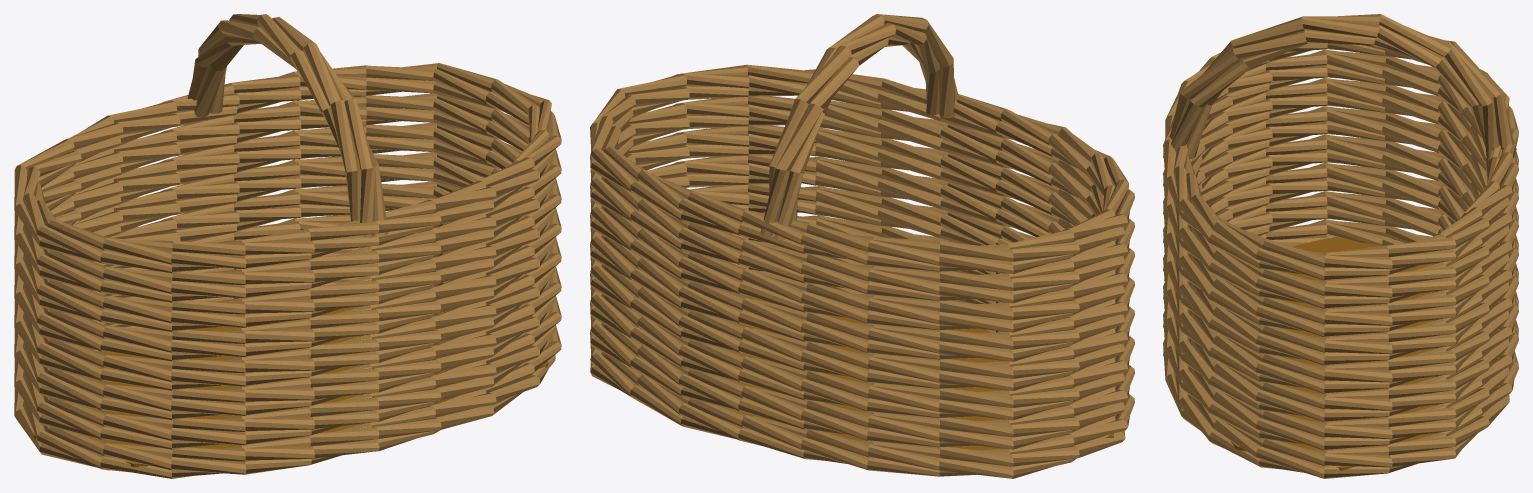
File: mod_bg_panierenosier.fbx
The picture shows the model from 3 angles, left to right: view 1: azimuth 30°, elevation 25°; view 2: azimuth 150°, elevation 25°; view 3: azimuth 270°, elevation 25°; orthographic projection. The views are drawn at different scales.
Parts seen in each view (by area): view 1: Circle.001; view 2: Circle.001; view 3: Circle.001.
Part boxes in pixels (x1,y1,x2,y2): Circle.001: (14, 14, 561, 478); Circle.001: (590, 14, 1134, 478); Circle.001: (1163, 14, 1518, 478).
Size of the model in its own units: 180 by 119 by 111.
